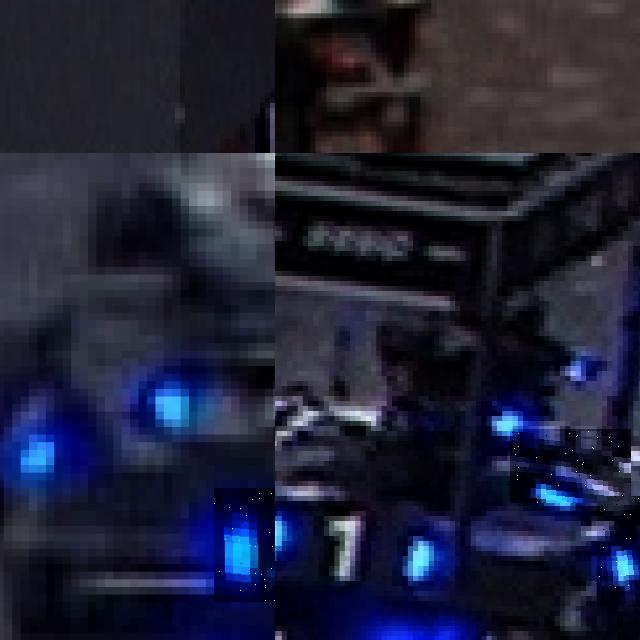B1: (275, 503, 426, 593), (510, 429, 631, 503), (596, 496, 640, 606)
B4: (214, 487, 275, 602)
